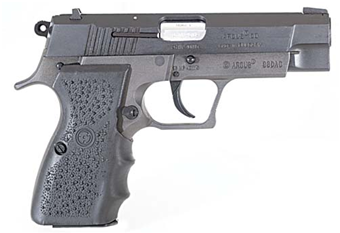Arma Real: (14, 5, 335, 230)
